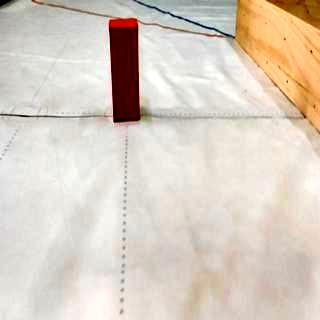redbox: (108, 18, 141, 123)
